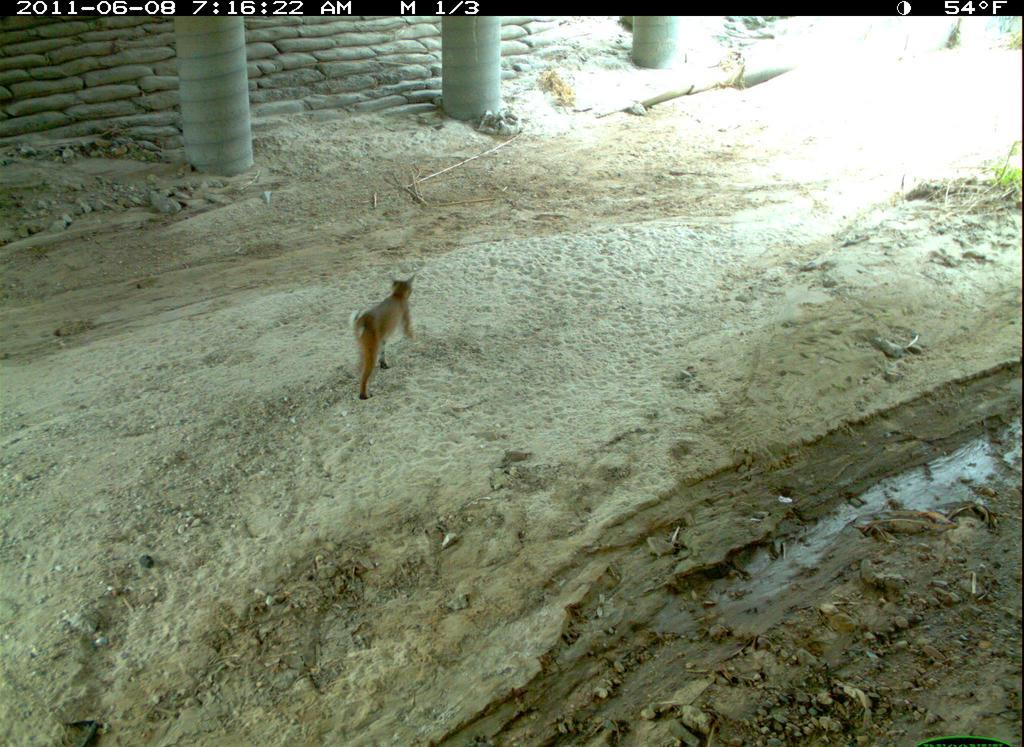bobcat: (336, 269, 429, 408)
